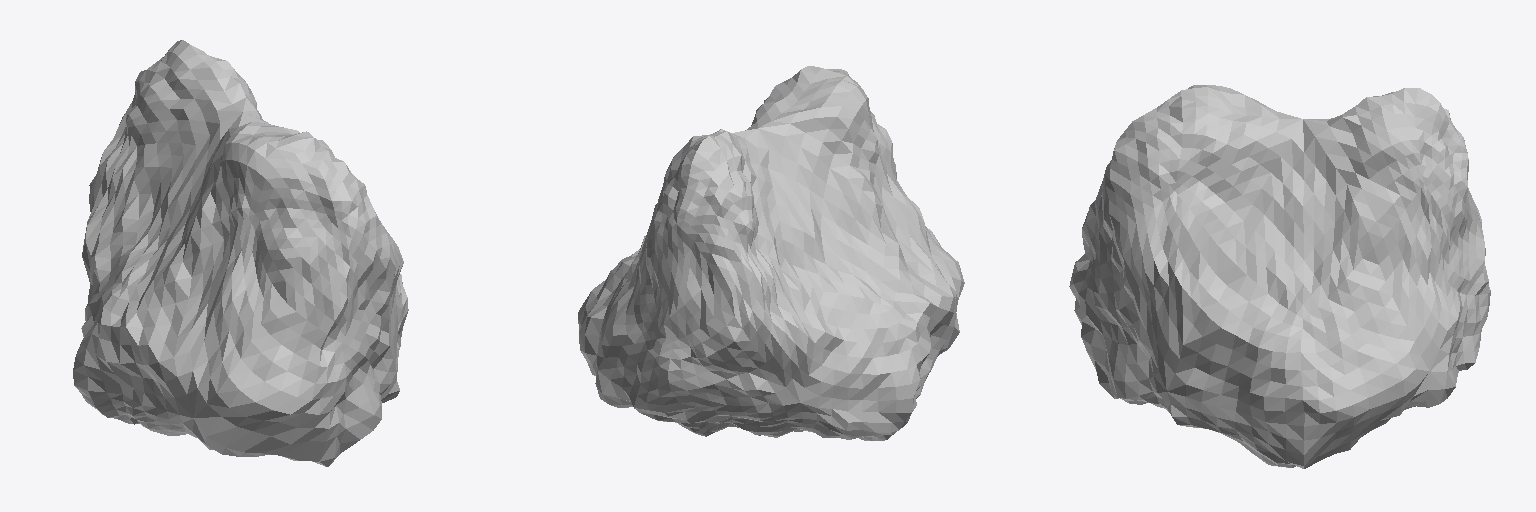
File: Asteroid3.obj
3 renders of one model, left to right at view 1: azimuth 30°, elevation 25°; view 2: azimuth 150°, elevation 25°; view 3: azimuth 270°, elevation 25°, orthographic.
Visible parts, largest first — view 1: rock.015; view 2: rock.015; view 3: rock.015.
Boxes of the visible parts, x1=… form: rock.015: x1=73, y1=40, x2=408, y2=466; rock.015: x1=578, y1=66, x2=964, y2=440; rock.015: x1=1069, y1=85, x2=1490, y2=468.
Bounding box in the file's own units: 0.9796 × 0.9507 × 1.09.